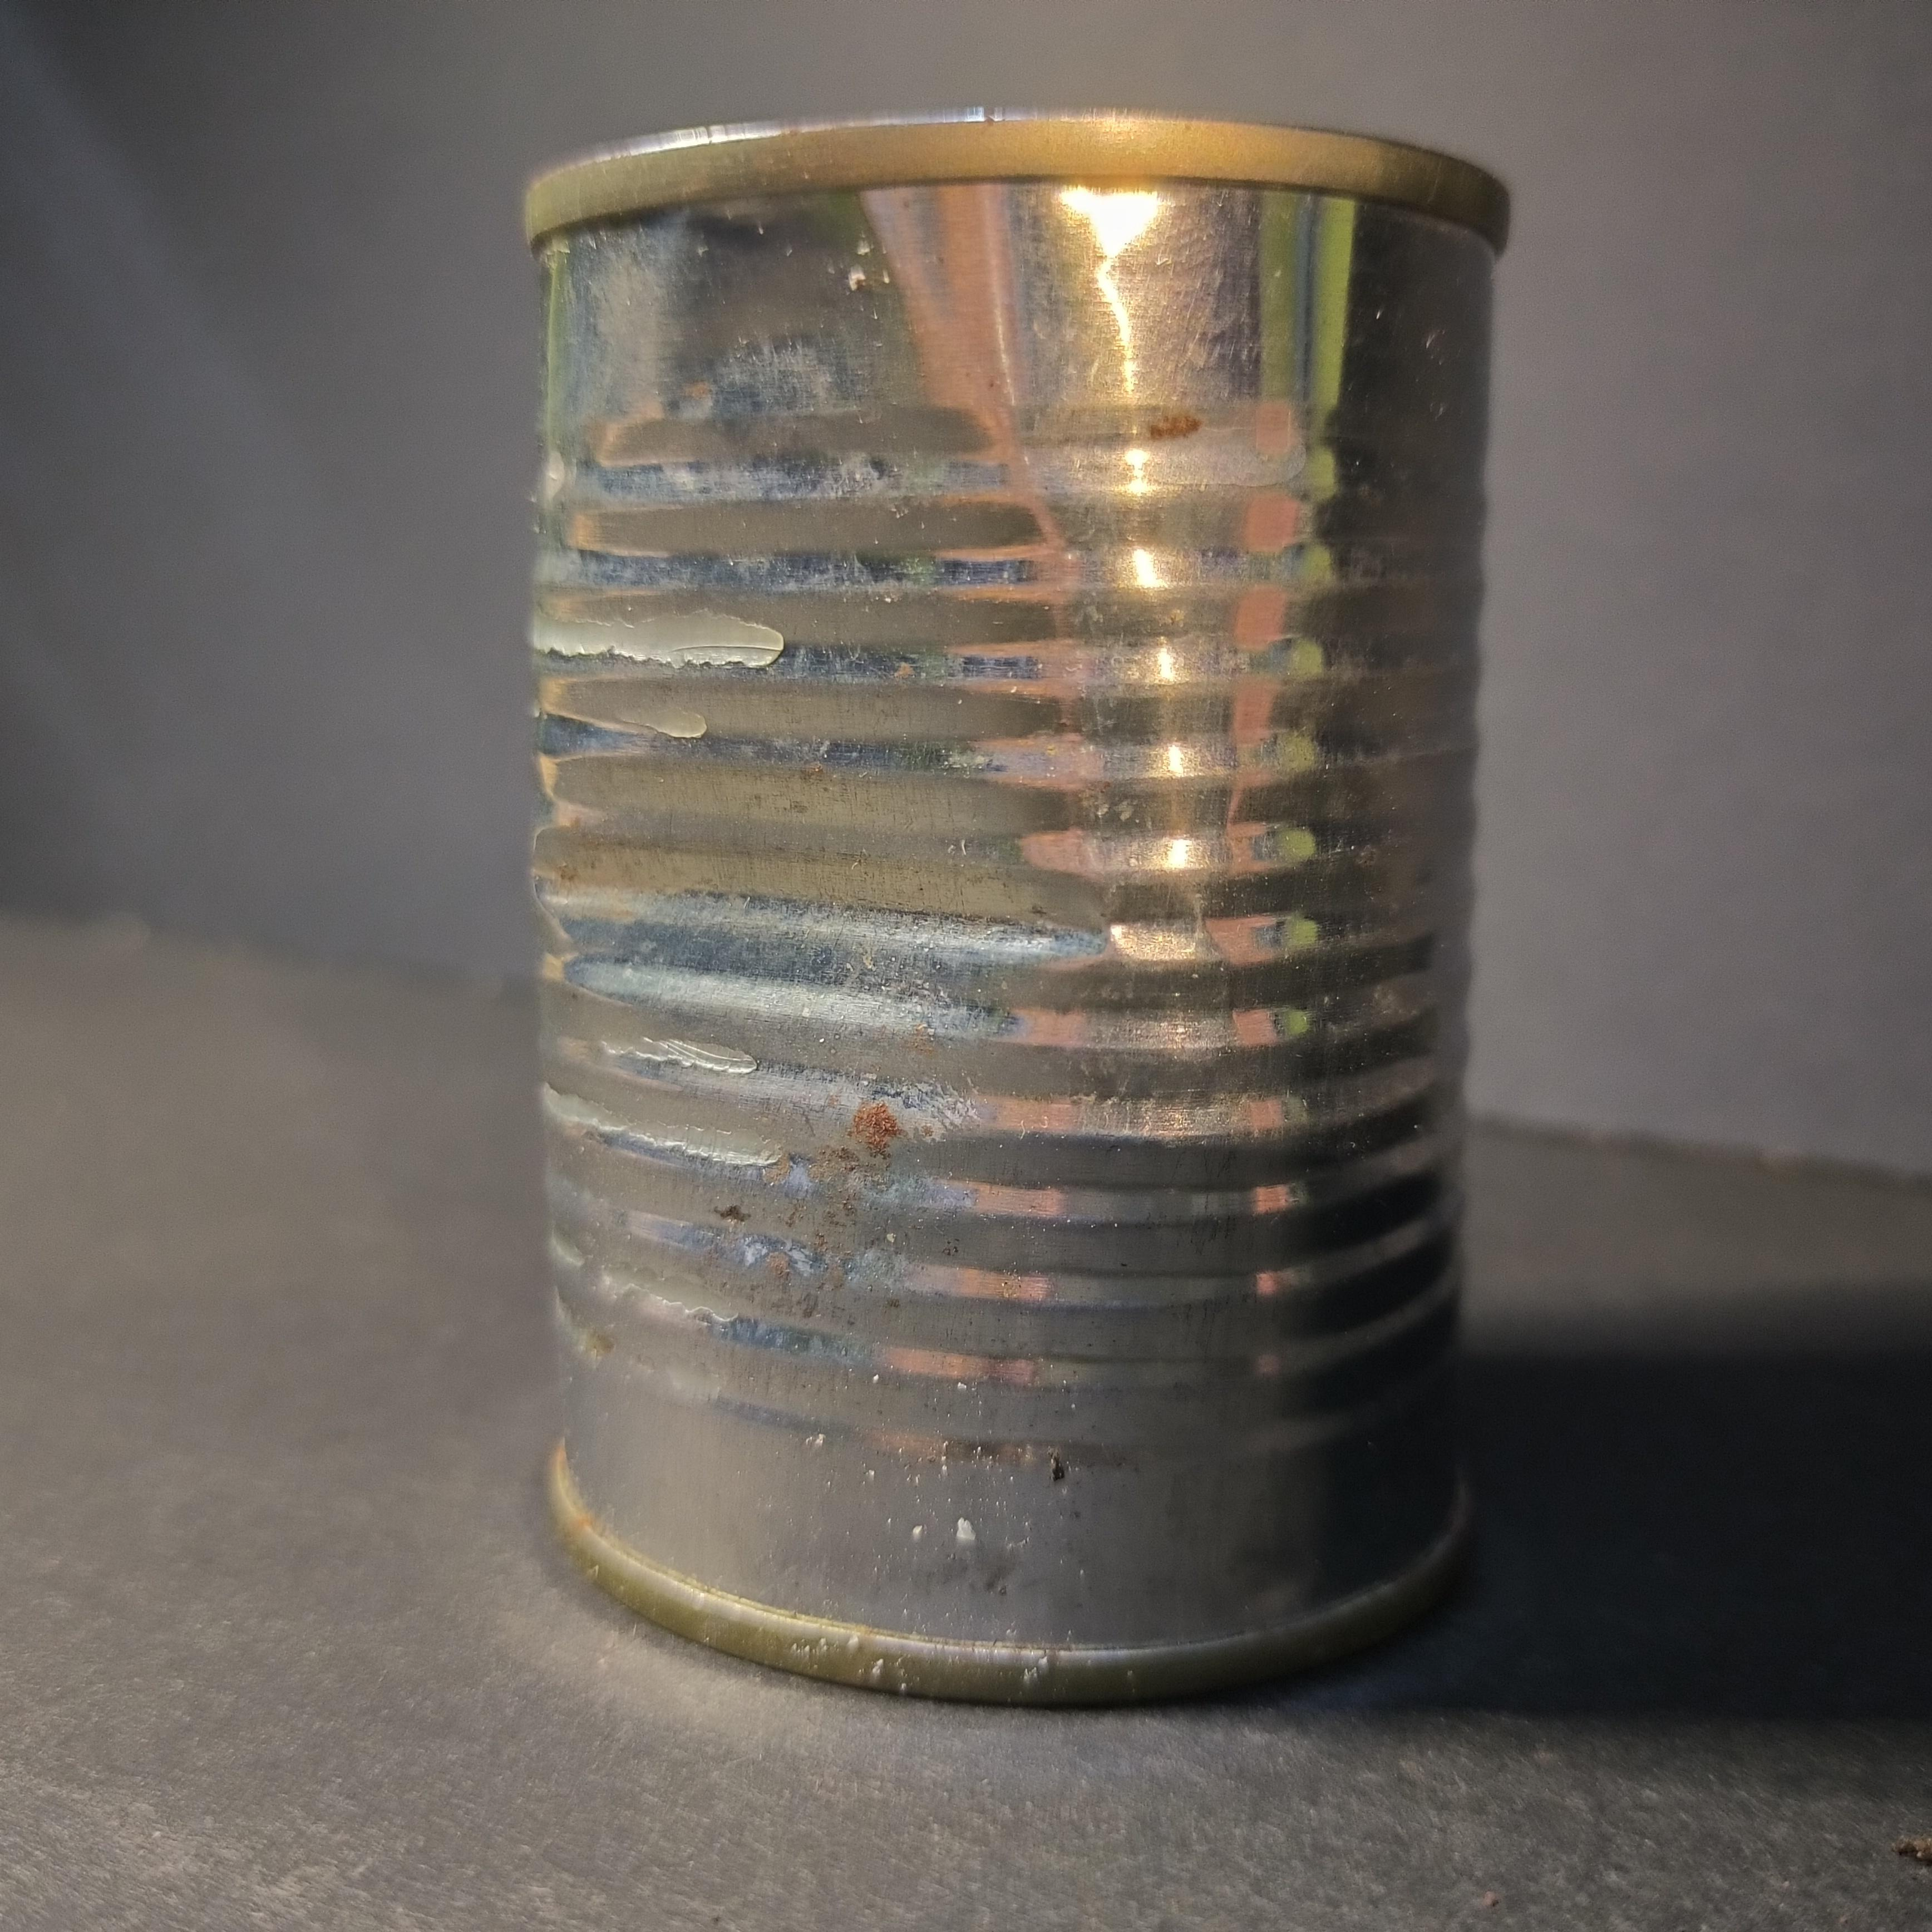Dented: (490, 62, 1553, 1748)
